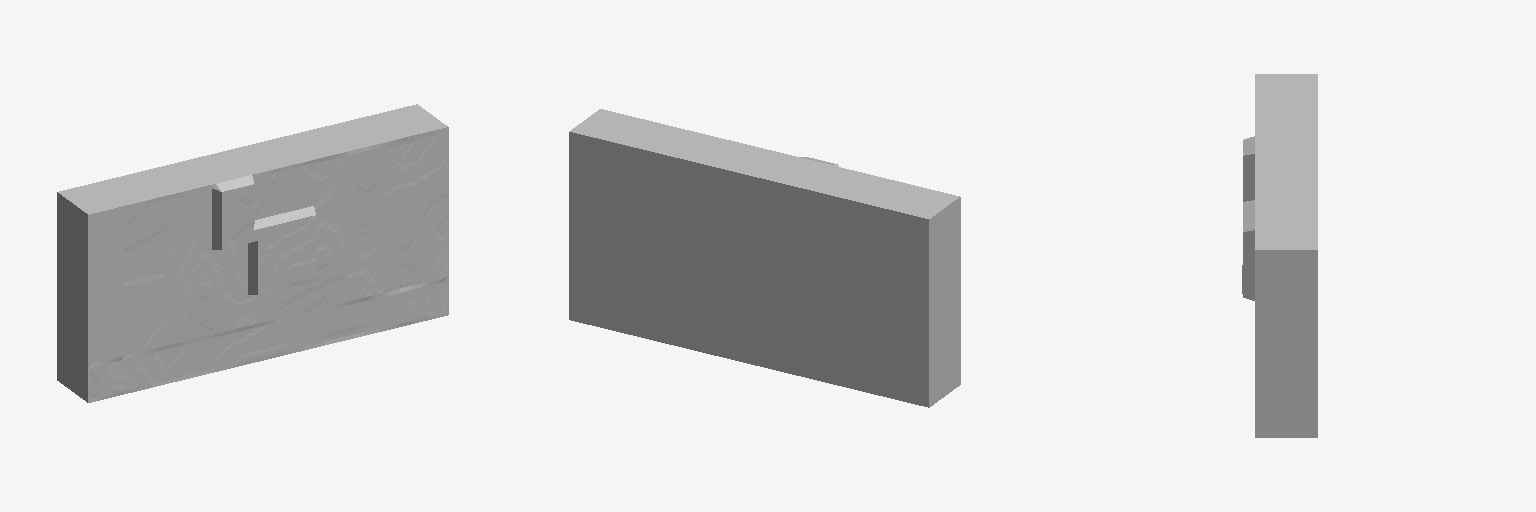
Rendered from rectangular_prism_bumps_5_7.obj.
The picture shows the model from 3 angles: view 1: azimuth 30°, elevation 25°; view 2: azimuth 150°, elevation 25°; view 3: azimuth 270°, elevation 25°; orthographic projection.
Size of the model in its own units: 10 by 5 by 1.8.